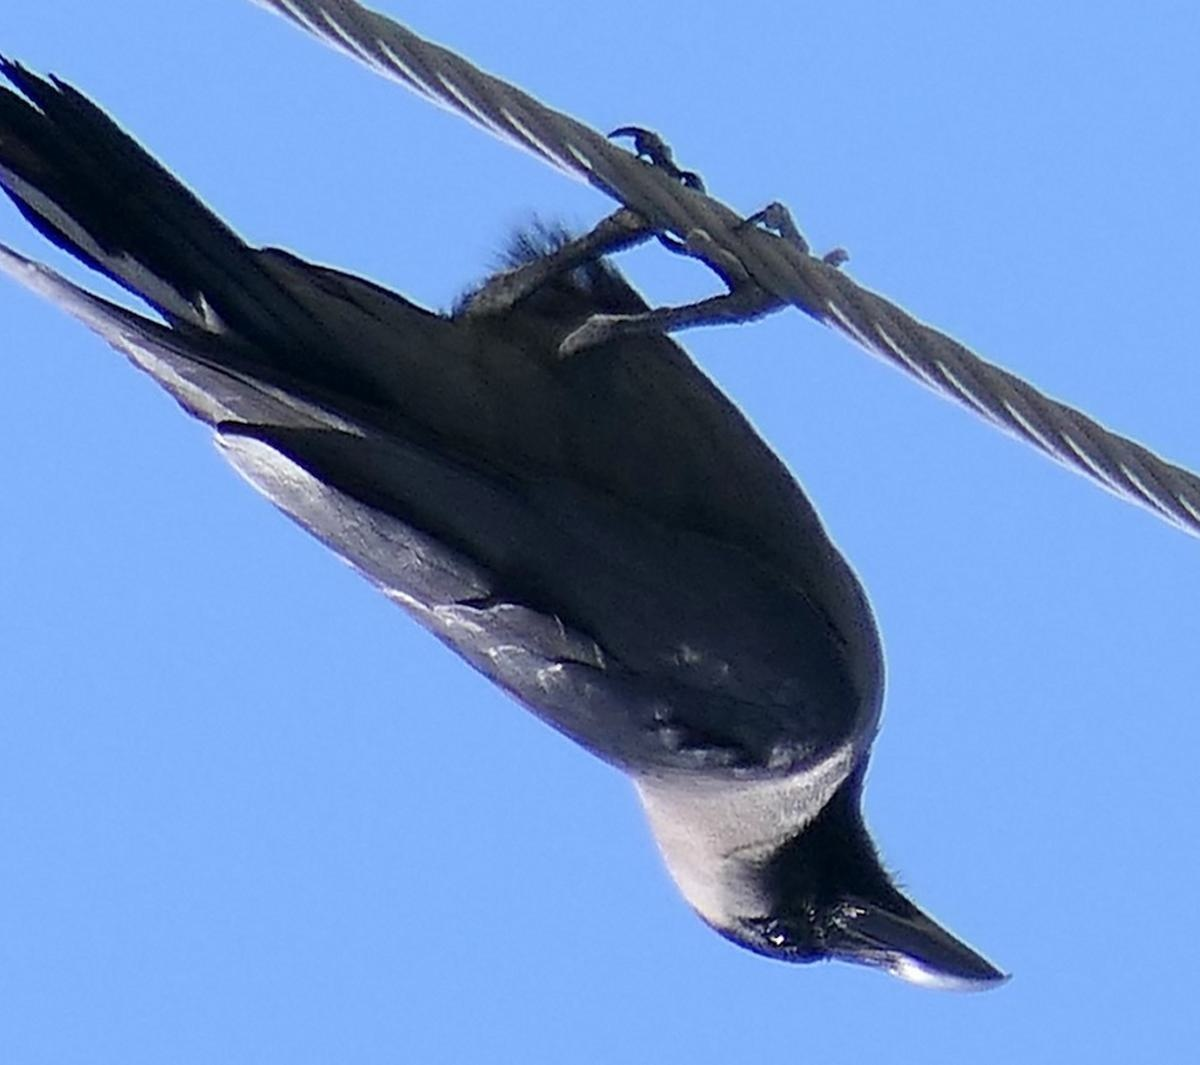crow: (1, 63, 1041, 1005)
